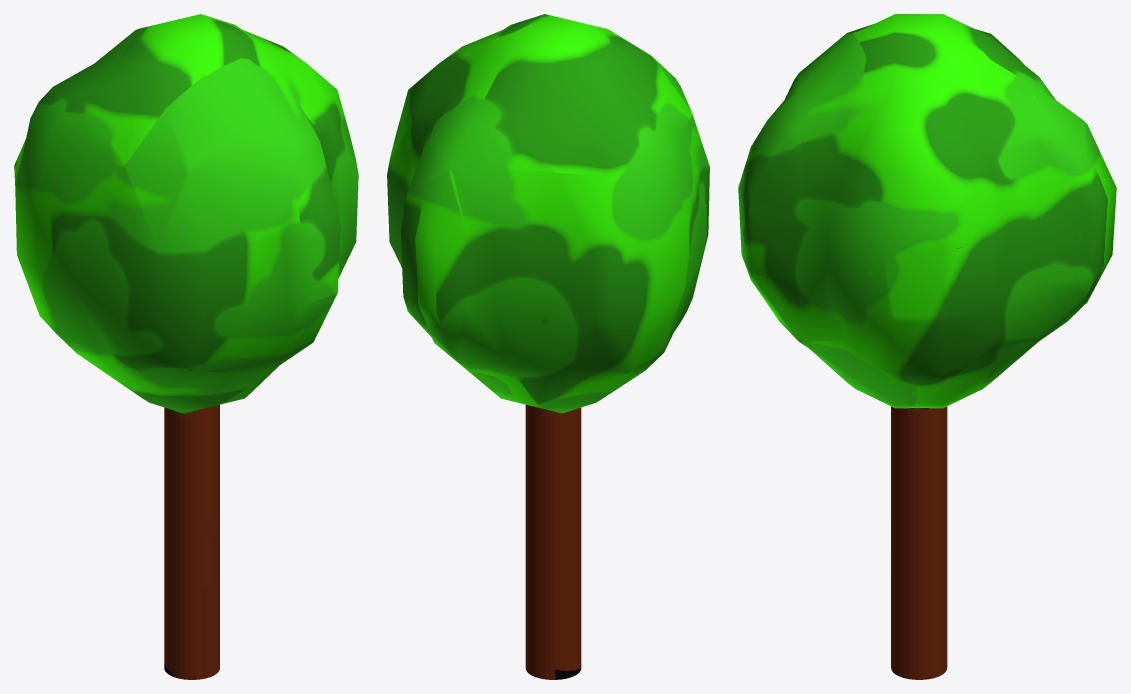
Rendered from drzewo.fbx.
3 renders of one model, left to right at view 1: azimuth 30°, elevation 25°; view 2: azimuth 150°, elevation 25°; view 3: azimuth 270°, elevation 25°, orthographic.
Visible parts, largest first — view 1: Drzewo; view 2: Drzewo; view 3: Drzewo.
Boxes of the visible parts, box(x1,y1,x2,y2) form: Drzewo: box(14, 14, 358, 679); Drzewo: box(387, 14, 709, 679); Drzewo: box(738, 14, 1116, 679).
Bounding box in the file's own units: 183 × 384 × 205.
